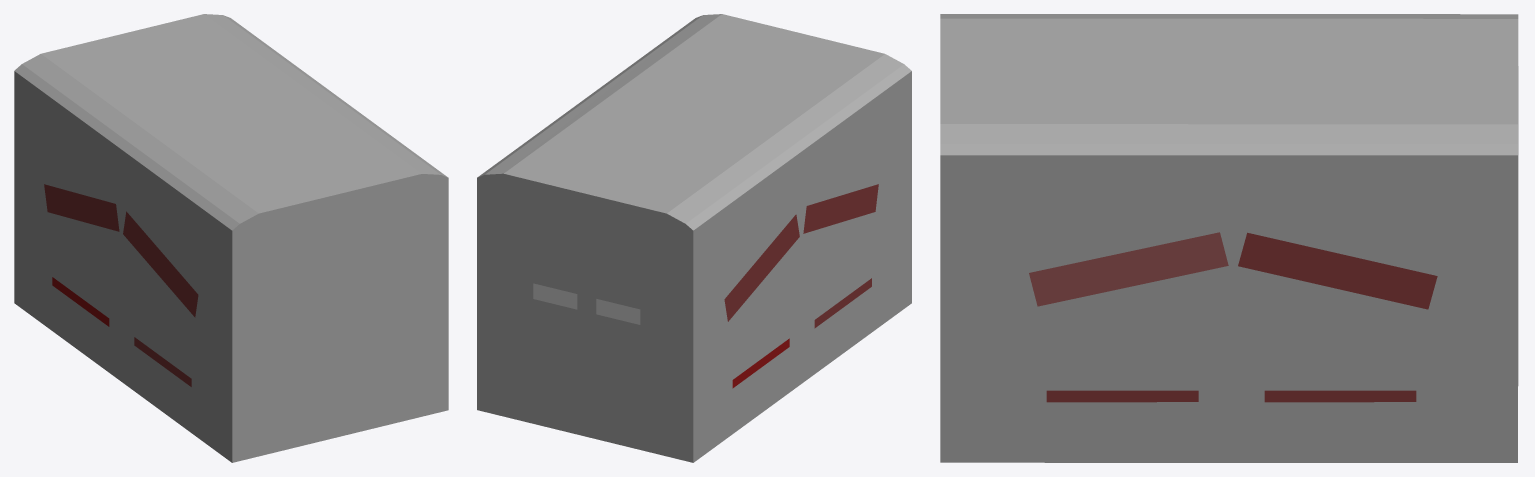
File: lorry-rear-box.dae
3 renders of one model, left to right at view 1: azimuth 30°, elevation 25°; view 2: azimuth 150°, elevation 25°; view 3: azimuth 270°, elevation 25°, orthographic. The views are drawn at different scales.
Visible parts, largest first — view 1: Cube_012, Plane_009, Plane_012, Plane_024, Plane_025; view 2: Cube_012, Plane_009, Plane_012, Plane_013, Plane_023, Plane_025, Plane_024; view 3: Cube_012, Plane_010, Plane_011, Plane_027, Plane_026.
Part boxes in pixels (box(x1,y1,x2,y2)): Cube_012: box(14, 14, 448, 462); Plane_009: box(44, 184, 119, 231); Plane_012: box(123, 211, 198, 317); Plane_024: box(134, 337, 191, 386); Plane_025: box(52, 277, 109, 326); Cube_012: box(477, 14, 911, 462); Plane_009: box(724, 214, 799, 321); Plane_012: box(803, 184, 878, 233); Plane_013: box(533, 283, 577, 309); Plane_023: box(596, 299, 640, 324); Plane_025: box(732, 338, 789, 388); Plane_024: box(814, 278, 871, 328); Cube_012: box(940, 14, 1518, 462); Plane_010: box(1238, 232, 1437, 309); Plane_011: box(1029, 232, 1228, 306); Plane_027: box(1046, 390, 1198, 402); Plane_026: box(1264, 390, 1416, 402).
Size of the model in its own units: 1.58 by 2.76 by 1.69.
